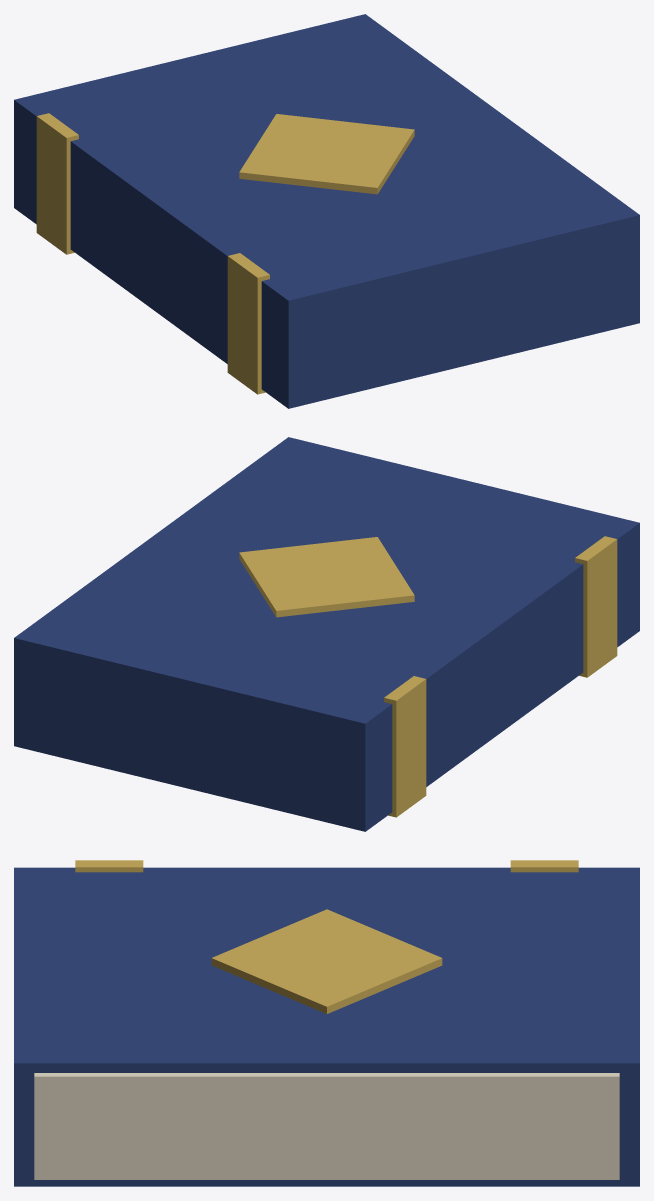
The model's file is Livro_Azul.glb.
3 renders of one model, top to bottom at view 1: azimuth 30°, elevation 25°; view 2: azimuth 150°, elevation 25°; view 3: azimuth 270°, elevation 25°, orthographic. The views are drawn at different scales.
Parts seen in each view (by area): view 1: Cube, Cube.004, Cube.002, Cube.003; view 2: Cube, Cube.004, Cube.003, Cube.002; view 3: Cube, Cube.001, Cube.004, Cube.002, Cube.003.
Part boxes in pixels (bbox=[...]): Cube: bbox=[14, 14, 639, 408]; Cube.004: bbox=[239, 114, 414, 194]; Cube.002: bbox=[227, 253, 269, 394]; Cube.003: bbox=[36, 113, 78, 254]; Cube: bbox=[14, 437, 639, 831]; Cube.004: bbox=[239, 537, 414, 617]; Cube.003: bbox=[384, 676, 426, 817]; Cube.002: bbox=[575, 536, 617, 677]; Cube: bbox=[14, 867, 639, 1186]; Cube.001: bbox=[34, 1073, 619, 1179]; Cube.004: bbox=[211, 909, 442, 1013]; Cube.002: bbox=[75, 860, 143, 872]; Cube.003: bbox=[510, 860, 578, 872].
Bounding box in the file's own units: 0.175 × 0.055 × 0.23.
